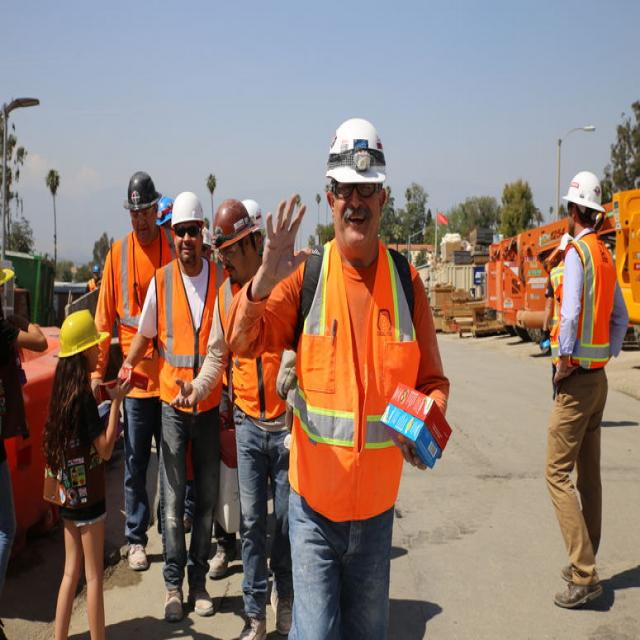Reflective-Jacket: (290, 240, 424, 514), (153, 258, 222, 410), (548, 232, 620, 376), (108, 228, 164, 396)
Safety-Helmet: (323, 111, 390, 187), (211, 194, 261, 250), (562, 164, 608, 216), (56, 308, 103, 357), (122, 166, 160, 213), (169, 187, 208, 227)
